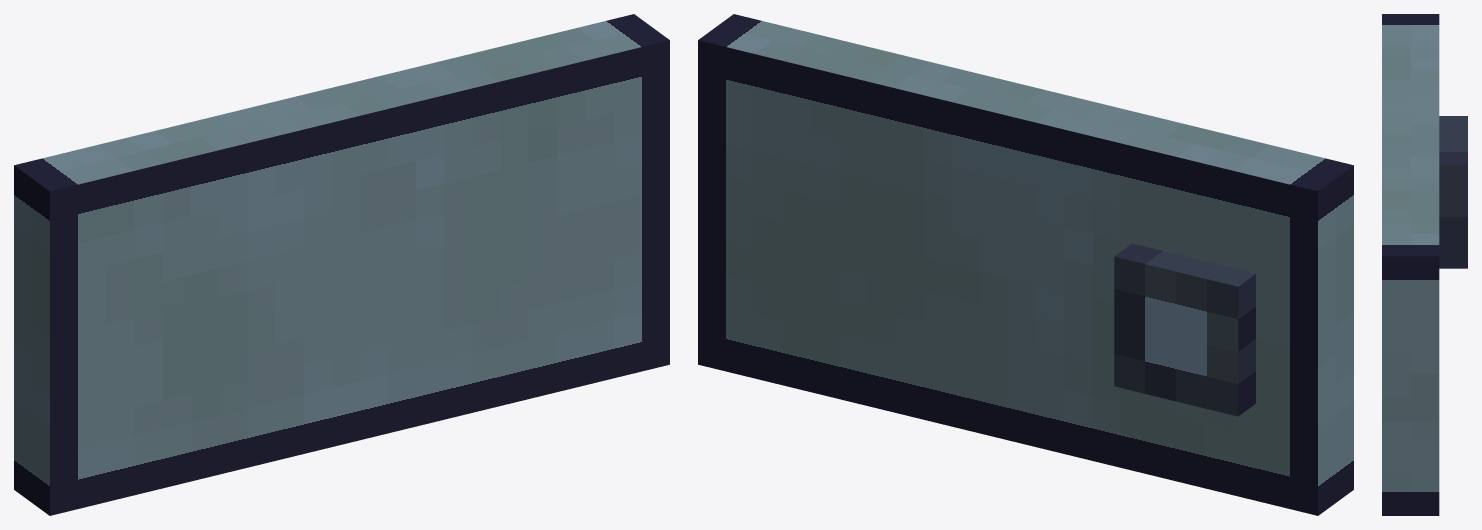
The model's file is camera.fbx.
3 views of the same model, side by side, from view 1: azimuth 30°, elevation 25°; view 2: azimuth 150°, elevation 25°; view 3: azimuth 270°, elevation 25° (orthographic). The views are drawn at different scales.
Parts seen in each view (by area): view 1: Cube; view 2: Cube; view 3: Cube.
Boxes of the visible parts, bbox=[...] form: Cube: bbox=[14, 14, 669, 515]; Cube: bbox=[698, 14, 1353, 515]; Cube: bbox=[1382, 14, 1467, 515].
Bounding box in the file's own units: 400 × 200 × 60.
1 material, 1 textured.
